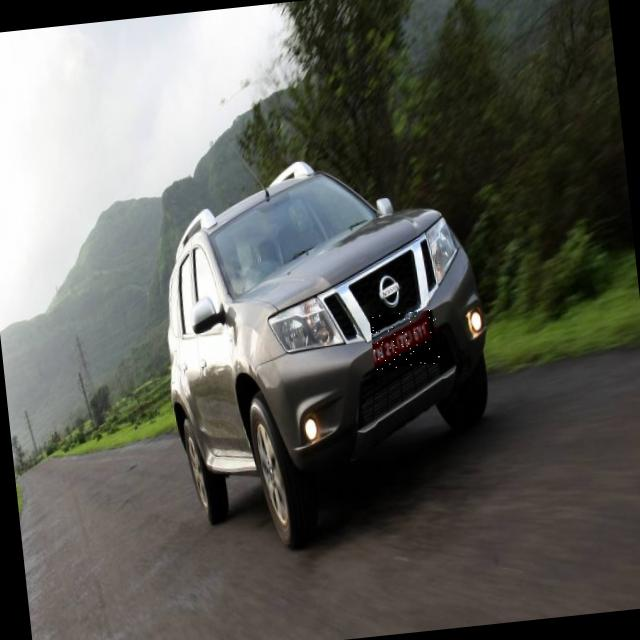Plate: (371, 310, 442, 371)
